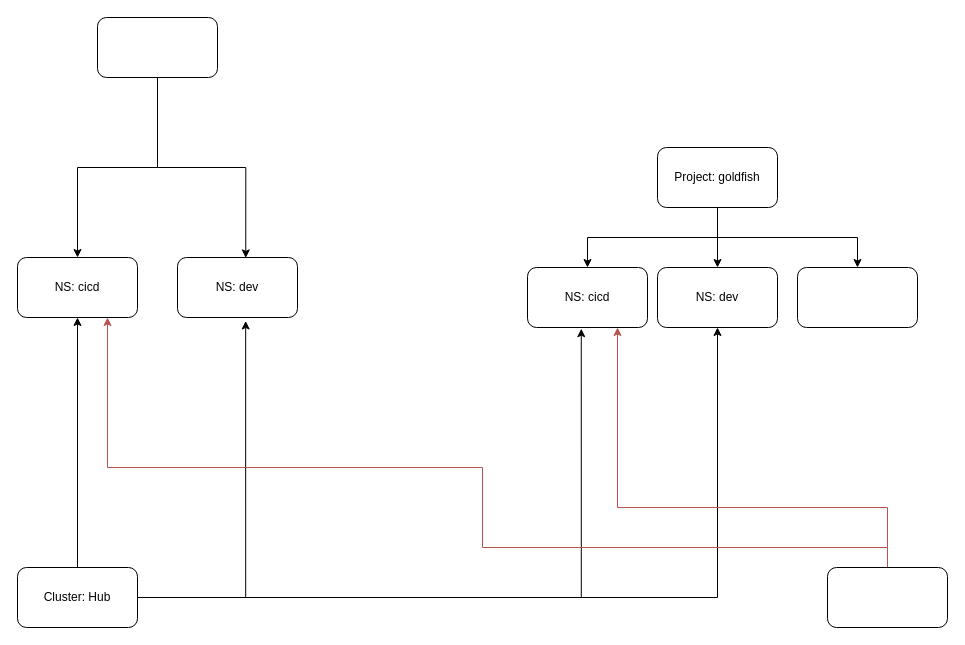
Some shapes in this 965 by 645 pixel diagram are drawn without their labels. Each missing label, with the centre of its shape:
"Cluster: Prod" belongs at (x=887, y=597).
"NS: test" belongs at (x=857, y=297).
"Project: dinosaur" belongs at (x=157, y=47).
